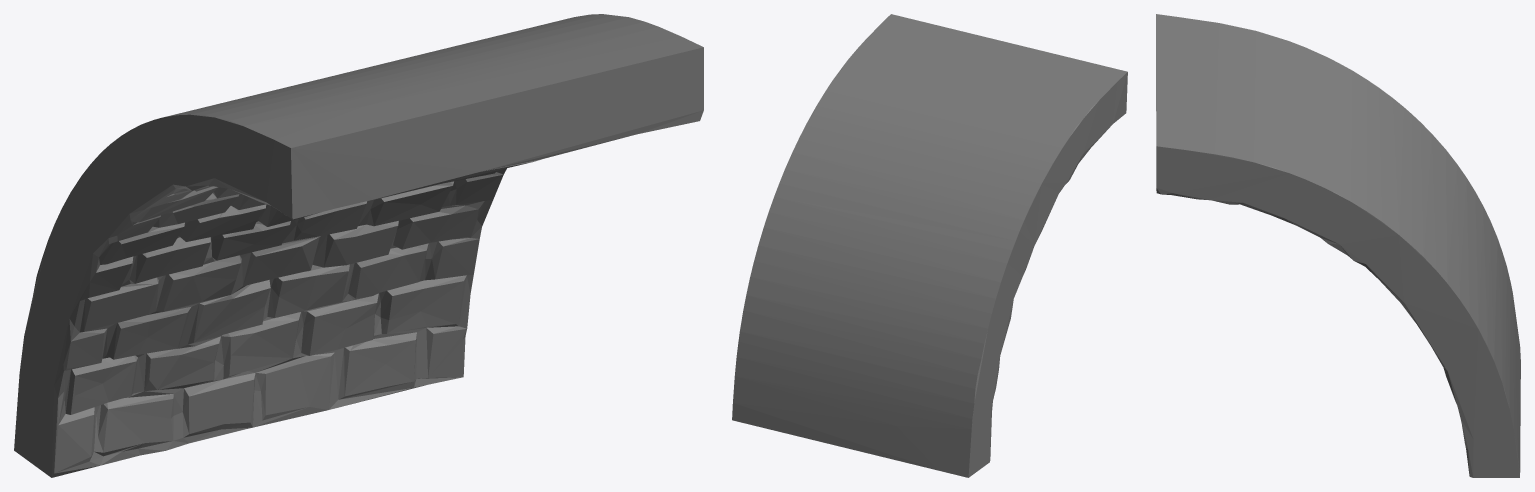
Rendered from modular_wall_arch_3x3m_a.FBX.
The picture shows the model from 3 angles, left to right: view 1: azimuth 30°, elevation 25°; view 2: azimuth 150°, elevation 25°; view 3: azimuth 270°, elevation 25°; orthographic projection. The views are drawn at different scales.
Visible parts, largest first — view 1: modular_wall_arch_3x3m_a; view 2: modular_wall_arch_3x3m_a; view 3: modular_wall_arch_3x3m_a.
Part boxes in pixels (x1,y1,x2,y2): modular_wall_arch_3x3m_a: (14, 14, 703, 477); modular_wall_arch_3x3m_a: (732, 14, 1127, 477); modular_wall_arch_3x3m_a: (1156, 14, 1520, 477).
Bounding box in the file's own units: 3 × 3.51 × 3.5.
